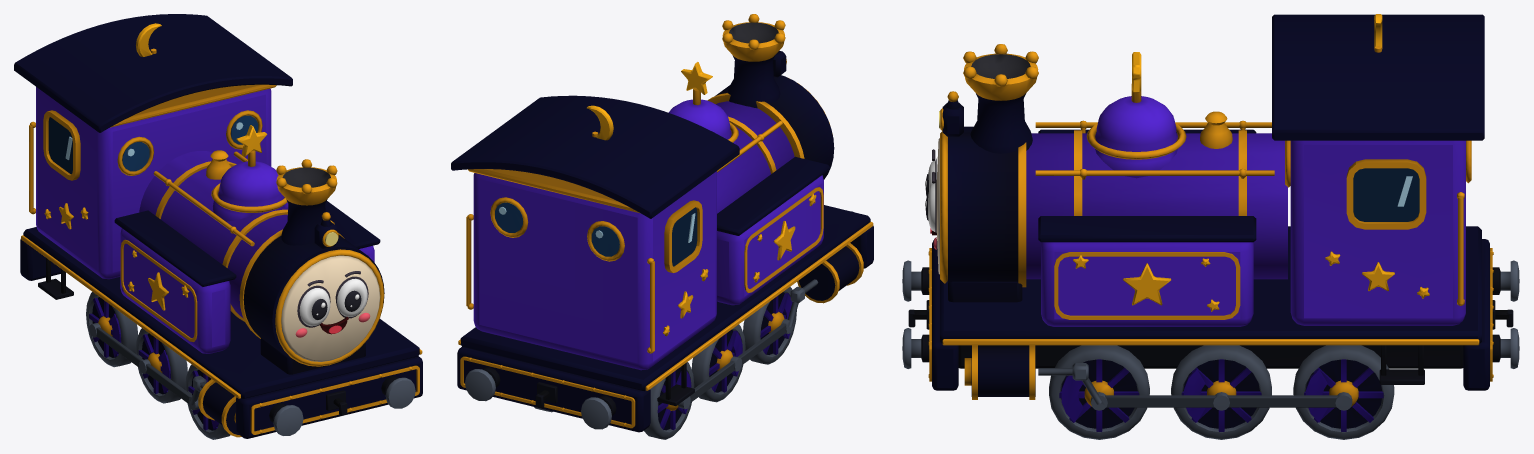
Rendered from Loco_PurpleStarlight.fbx.
3 views of the same model, side by side, from view 1: azimuth 30°, elevation 25°; view 2: azimuth 150°, elevation 25°; view 3: azimuth 270°, elevation 25° (orthographic). The views are drawn at different scales.
Visible parts, largest first — view 1: Loco_PurpleStarlight, Wheel_5, Wheel_3, Wheel_1; view 2: Loco_PurpleStarlight, Wheel_3, Wheel_1, Wheel_5; view 3: Loco_PurpleStarlight, Wheel_4, Wheel_2, Wheel_0.
Boxes of the visible parts, x1,y1,x2,y2 form: Loco_PurpleStarlight: (14,14,422,438); Wheel_5: (86,292,138,367); Wheel_3: (135,328,187,403); Wheel_1: (185,364,230,439); Loco_PurpleStarlight: (451,14,873,432); Wheel_3: (691,324,745,402); Wheel_1: (743,286,796,364); Wheel_5: (644,362,694,439); Loco_PurpleStarlight: (902,14,1519,410); Wheel_4: (1293,345,1394,439); Wheel_2: (1171,345,1271,439); Wheel_0: (1049,345,1149,439).
Size of the model in its own units: 1.04 by 1.61 by 2.32.
